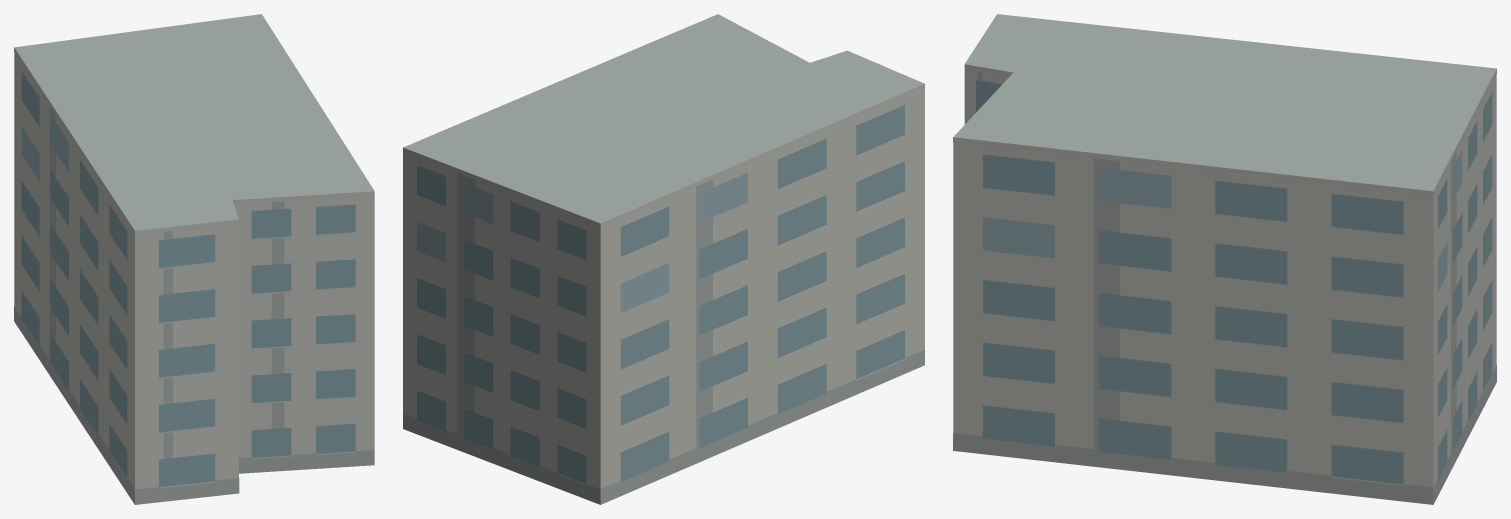
The model's file is residential-8d73ac7c-06b8-4303-bca3-c10bef0f4406.glb.
3 views of the same model, side by side, from view 1: azimuth 30°, elevation 25°; view 2: azimuth 150°, elevation 25°; view 3: azimuth 270°, elevation 25° (orthographic). The views are drawn at different scales.
Visible parts, largest first — view 1: residential-8d73ac7c-06b8-4303-bca3-c10bef0f4406.tmp; view 2: residential-8d73ac7c-06b8-4303-bca3-c10bef0f4406.tmp; view 3: residential-8d73ac7c-06b8-4303-bca3-c10bef0f4406.tmp.
Part boxes in pixels (x1,y1,x2,y2): residential-8d73ac7c-06b8-4303-bca3-c10bef0f4406.tmp: (14,14,374,504); residential-8d73ac7c-06b8-4303-bca3-c10bef0f4406.tmp: (403,14,924,504); residential-8d73ac7c-06b8-4303-bca3-c10bef0f4406.tmp: (953,14,1496,504).
Size of the model in its own units: 18.5 by 15.25 by 23.97.
